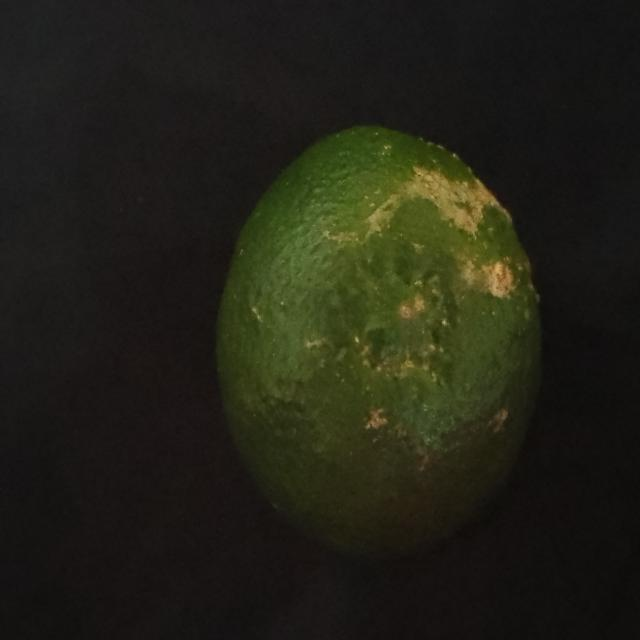scab: (210, 113, 544, 548)
